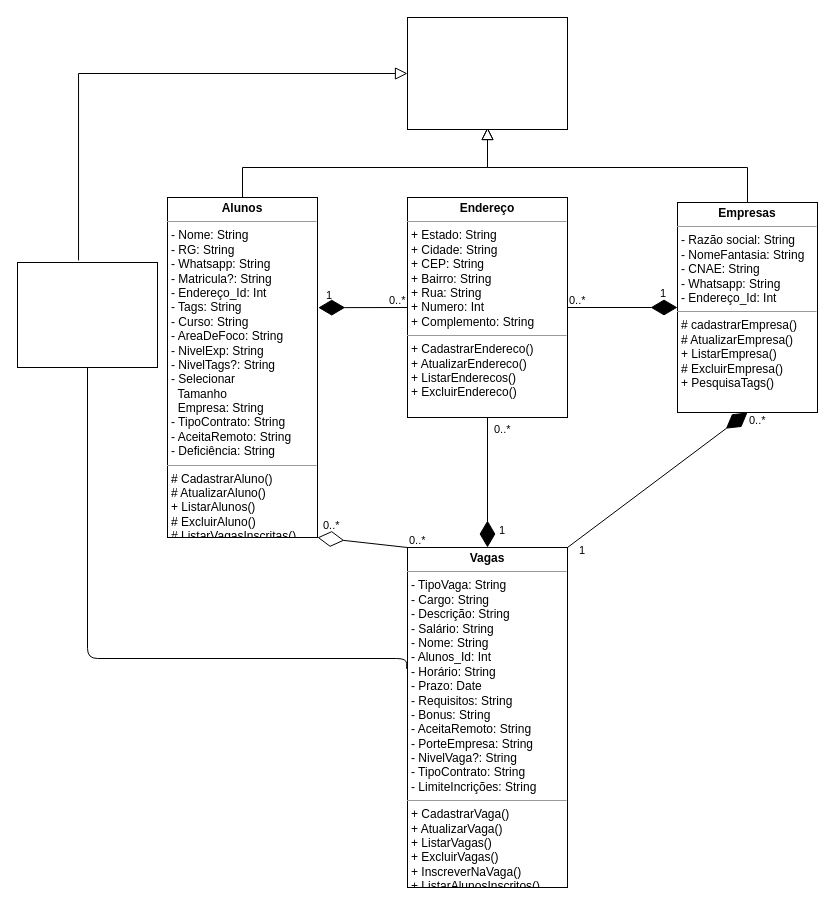
Image size: 835x910. Some labels were removed from this diagram. Each missing label, with the centre of its shape:
Administrador - Nome: String - RG: String # ValidarEmpresa() # CadastrarADM(): (x=87, y=315)
Usuário # CPF/CNPJ: String # Email: String # Senha: String # FazerLogin(): (x=487, y=73)
